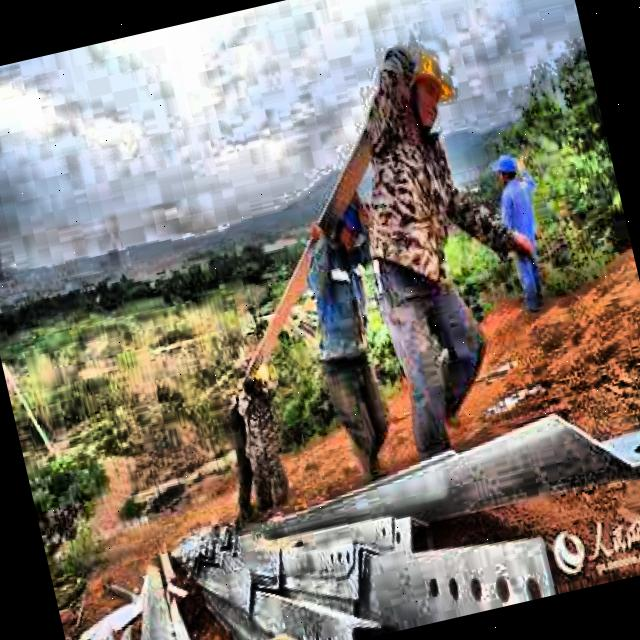helmet: (399, 42, 456, 126), (490, 147, 520, 189)
